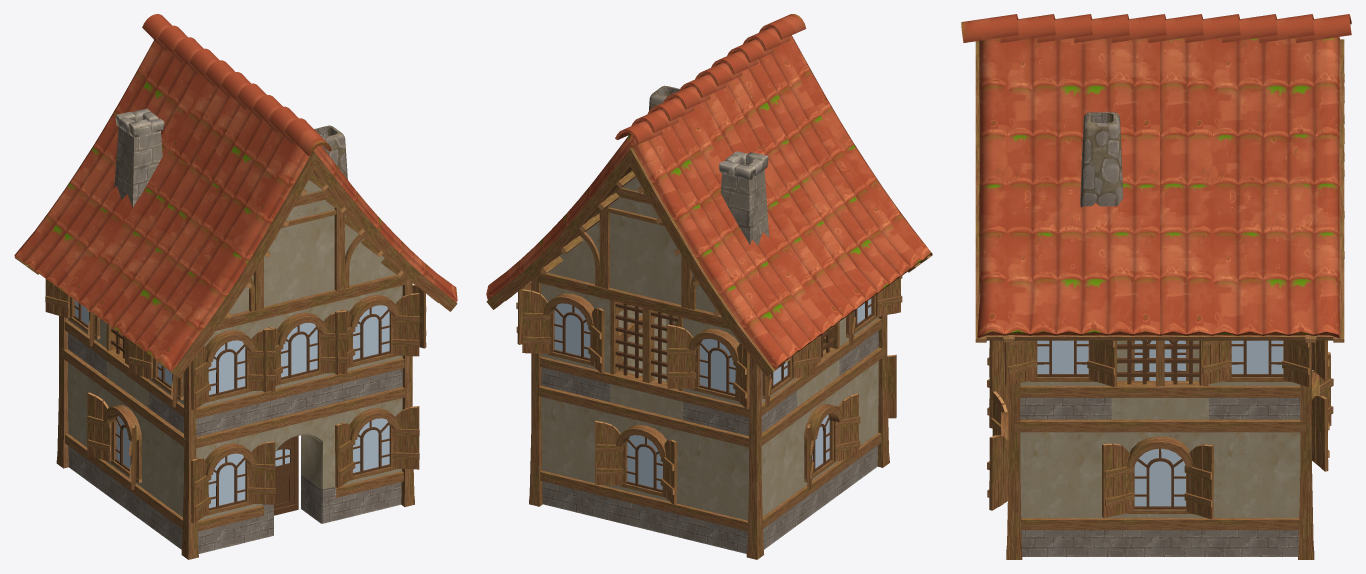
File: Manor.gltf
3 views of the same model, side by side, from view 1: azimuth 30°, elevation 25°; view 2: azimuth 150°, elevation 25°; view 3: azimuth 270°, elevation 25° (orthographic). The views are drawn at different scales.
Parts seen in each view (by area): view 1: Manor; view 2: Manor; view 3: Manor.
Part boxes in pixels (x1,y1,x2,y2): Manor: [14, 14, 457, 559]; Manor: [486, 14, 932, 559]; Manor: [961, 14, 1351, 559].
Size of the model in its own units: 8.25 by 10.89 by 8.03.
7 materials, 6 textured.
